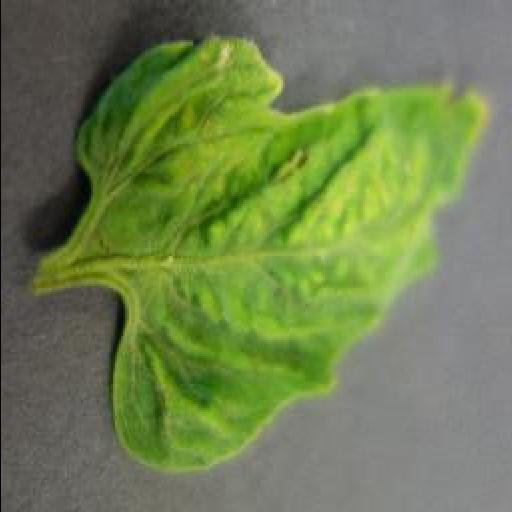disease_tomato: (75, 38, 489, 472)
